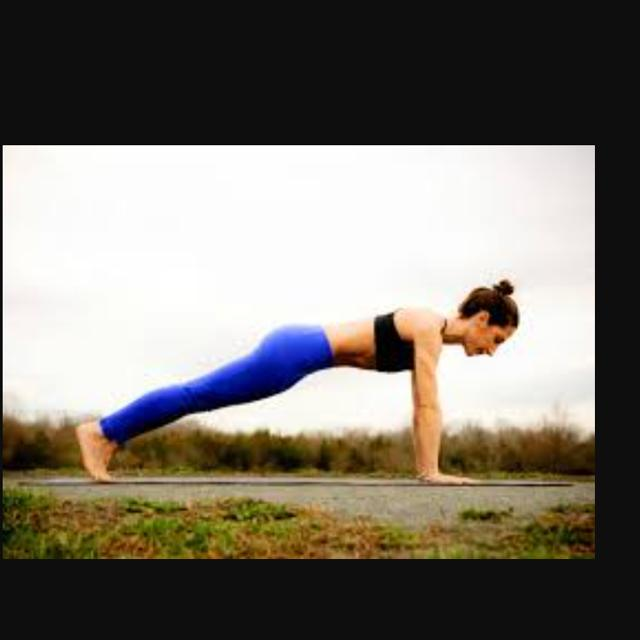Plank_Pose: (71, 271, 533, 493)
